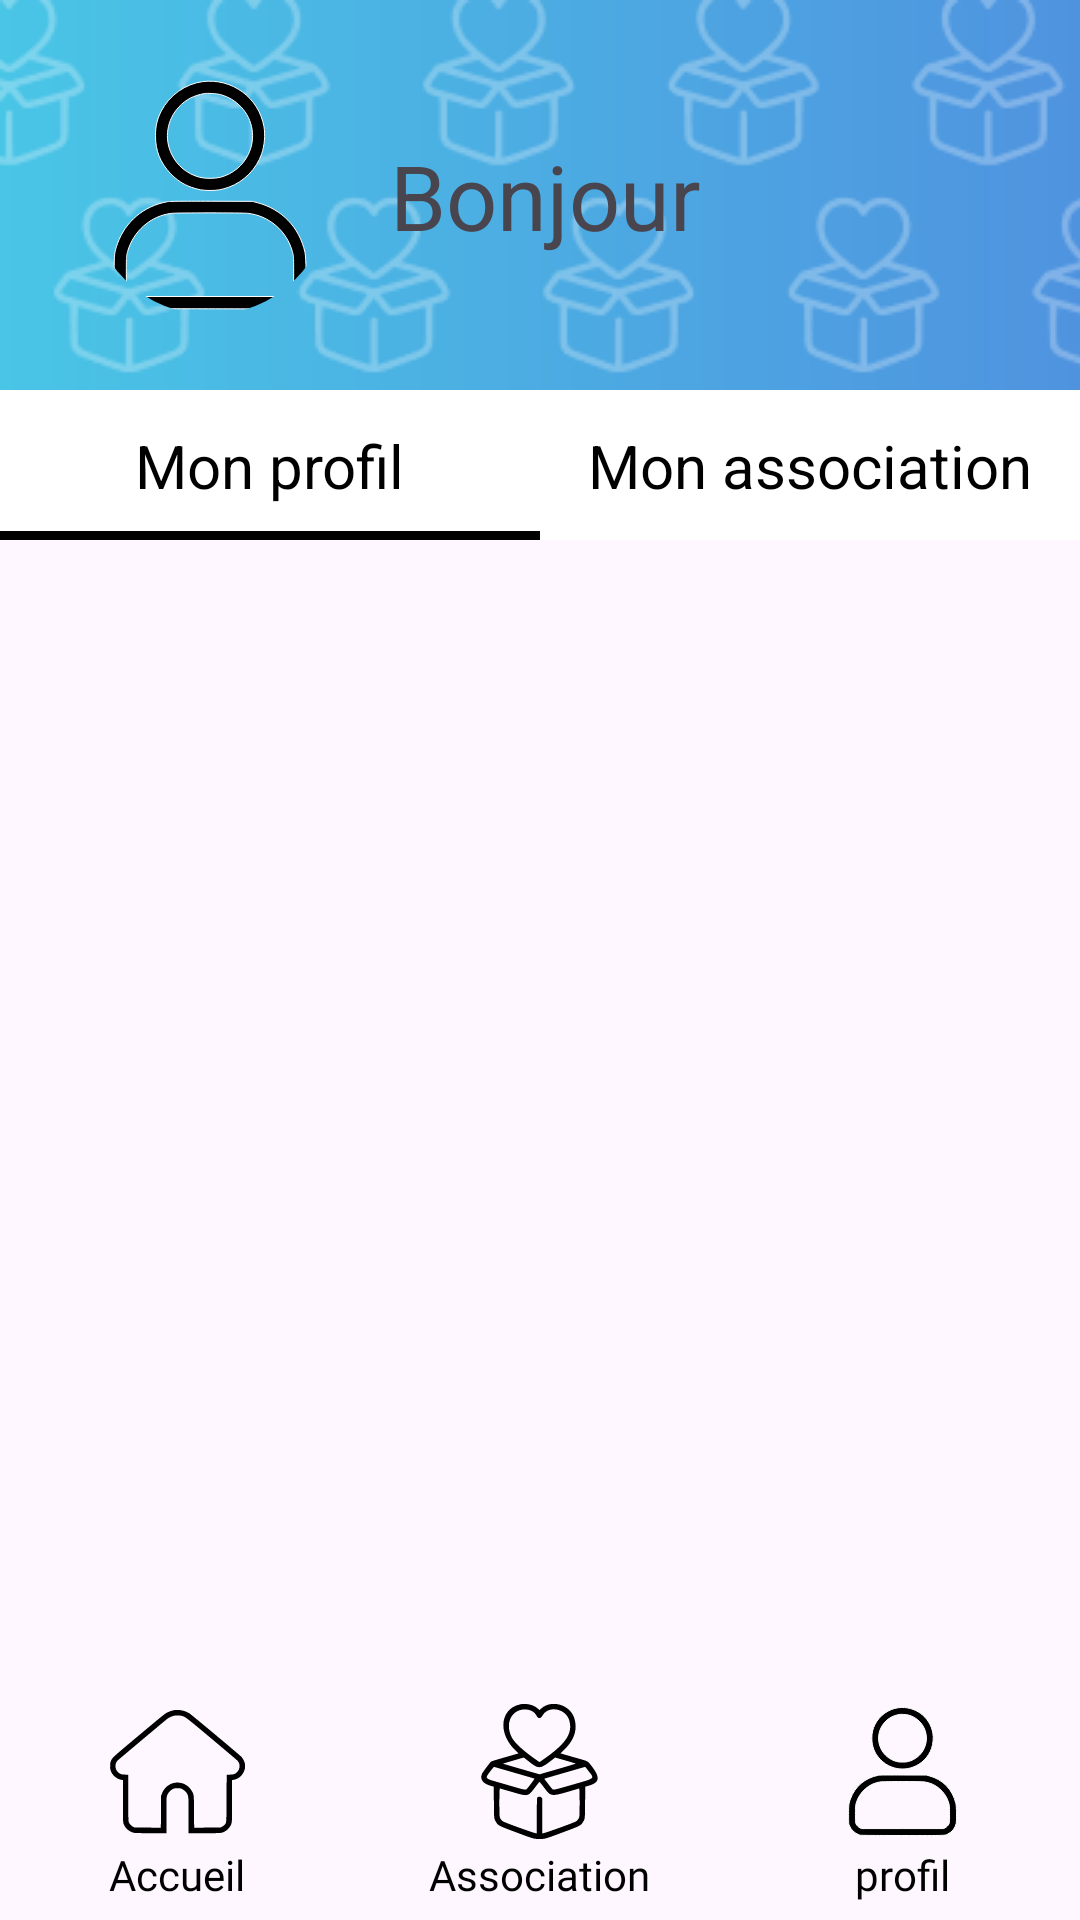

Icons on this 1080*1920 Android screen, each with the point to tap as (x=x, y=y):
profil noir: (x=210, y=195)
